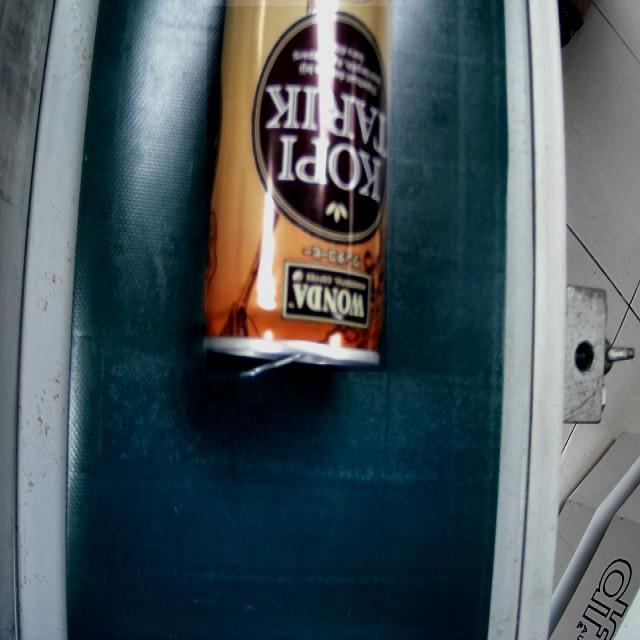can: (207, 6, 387, 372)
